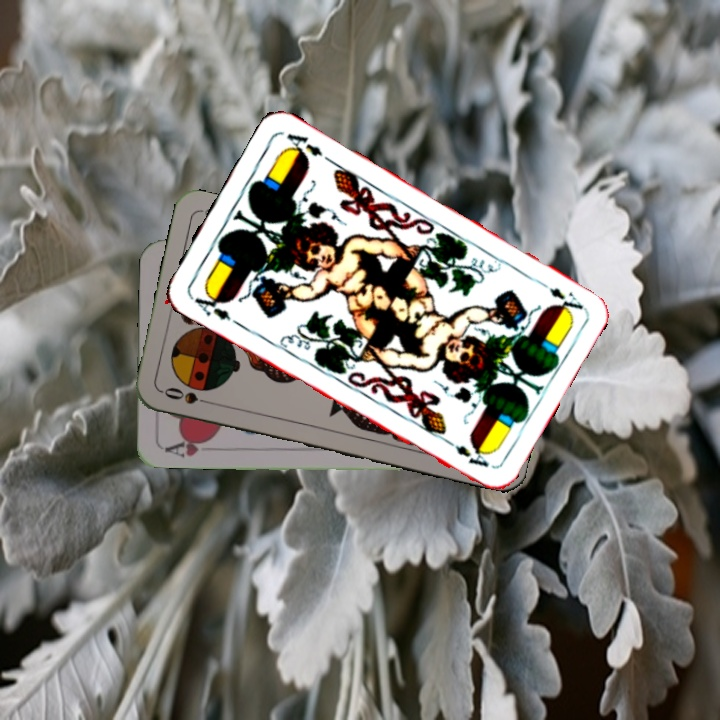EA: (532, 275, 586, 316), (187, 286, 234, 323)
HA: (161, 433, 217, 460)
SO: (159, 383, 217, 408)
